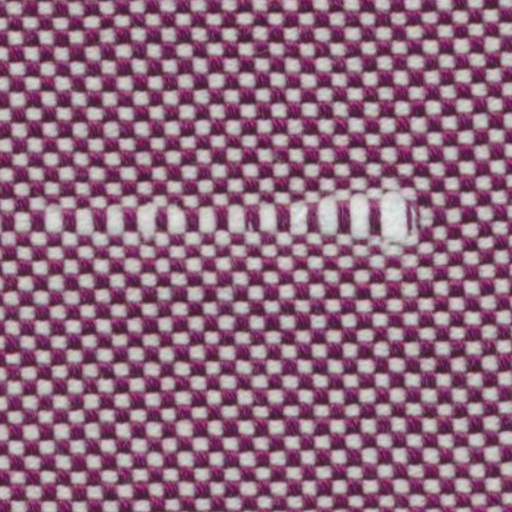DaiSha: (6, 183, 440, 258)
